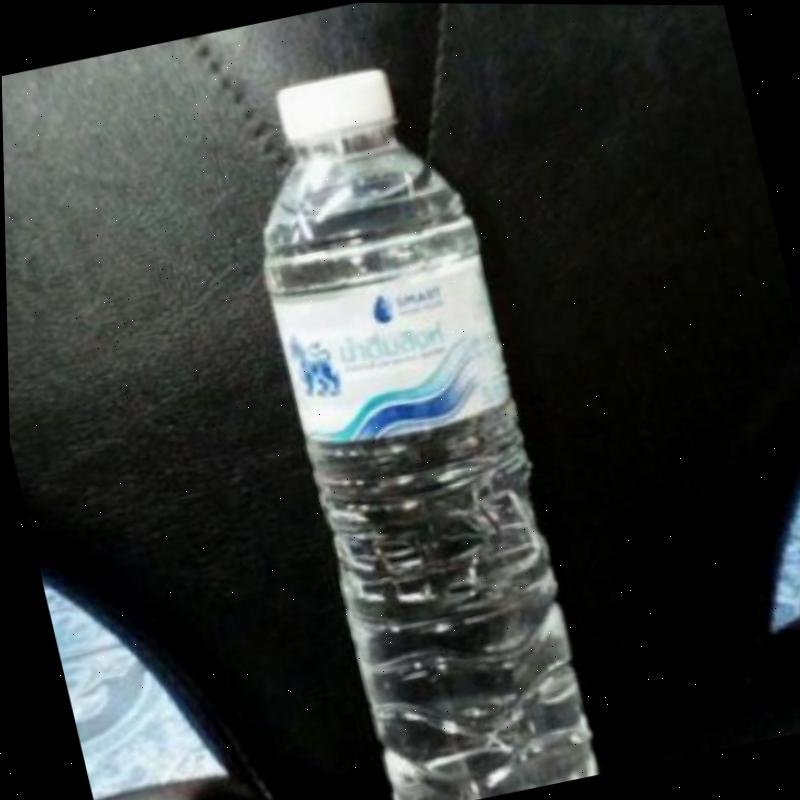botella: (224, 55, 600, 800)
